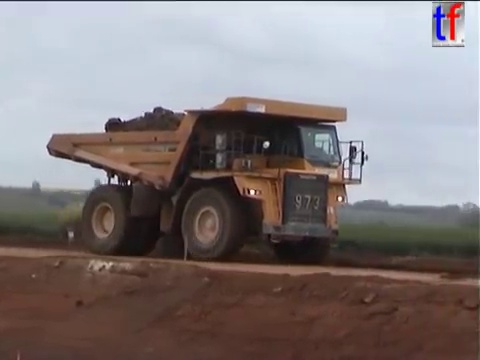truck: (44, 93, 370, 263)
